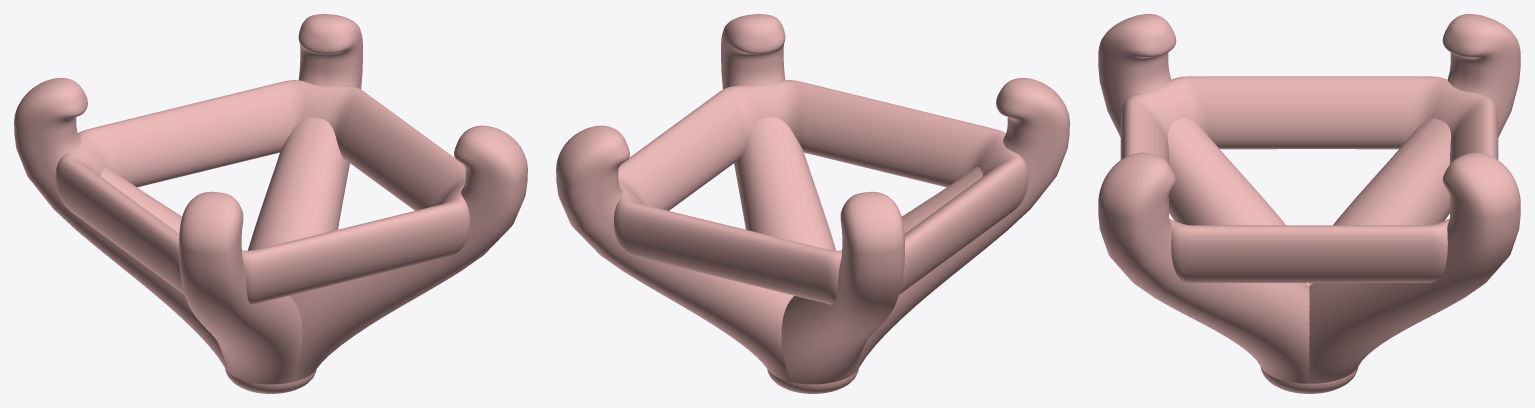
The model's file is RADIANT.glb.
3 views of the same model, side by side, from view 1: azimuth 30°, elevation 25°; view 2: azimuth 150°, elevation 25°; view 3: azimuth 270°, elevation 25° (orthographic). The views are drawn at different scales.
Parts seen in each view (by area): view 1: radiant; view 2: radiant; view 3: radiant.
Boxes of the visible parts, x1,y1,x2,y2 form: radiant: (14, 14, 527, 393); radiant: (556, 14, 1069, 393); radiant: (1098, 14, 1520, 393).
Size of the model in its own units: 5.57 by 4.3 by 5.57.
